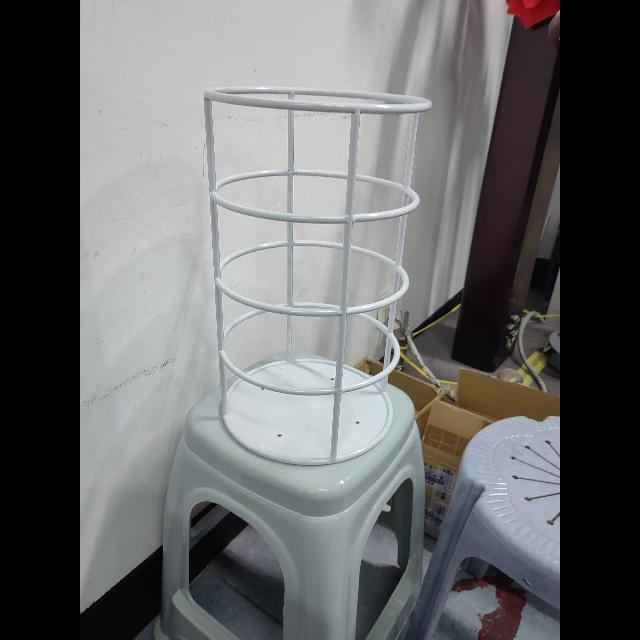S: (198, 82, 438, 474)
